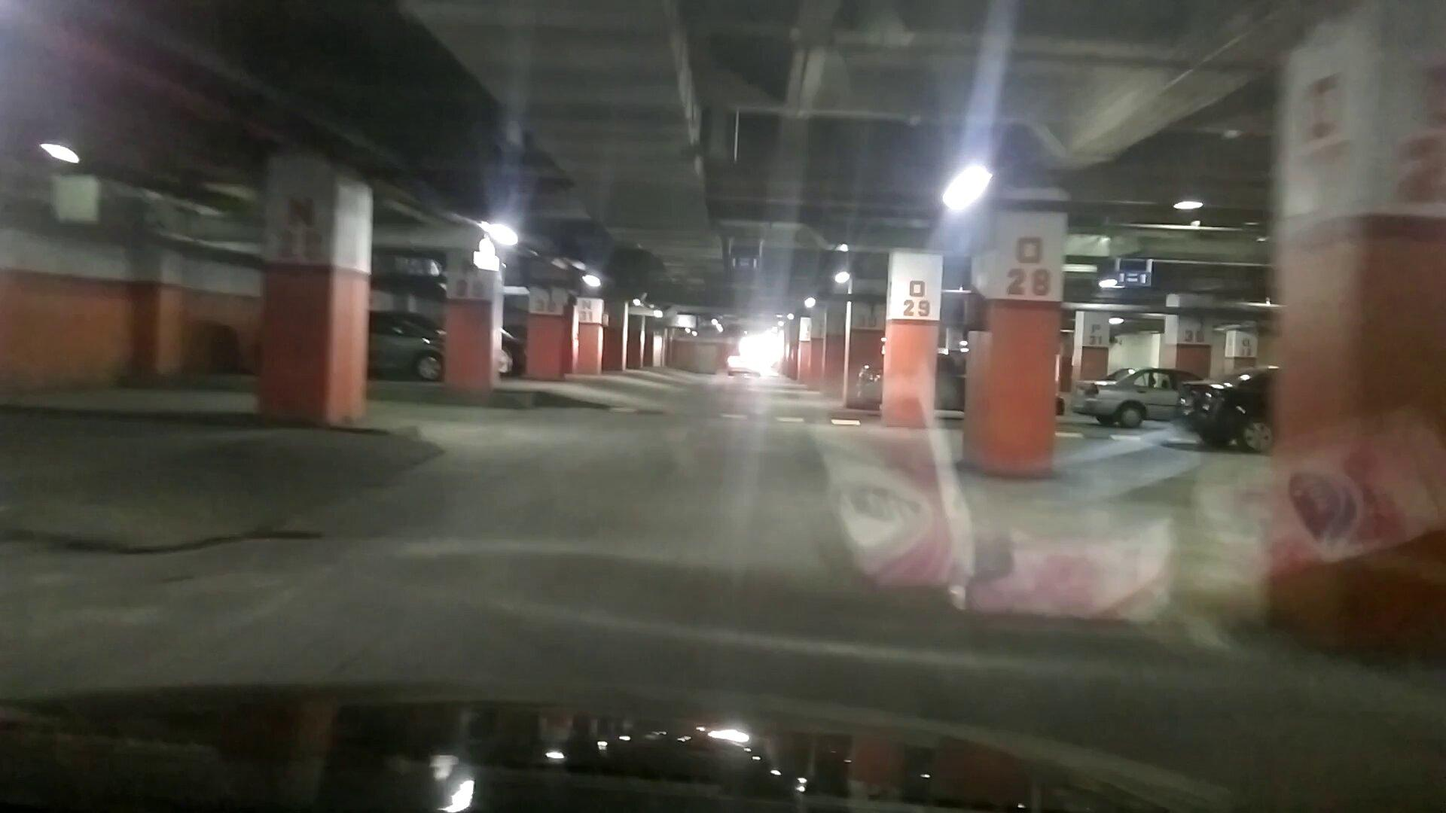Bump: (593, 399, 870, 425)
